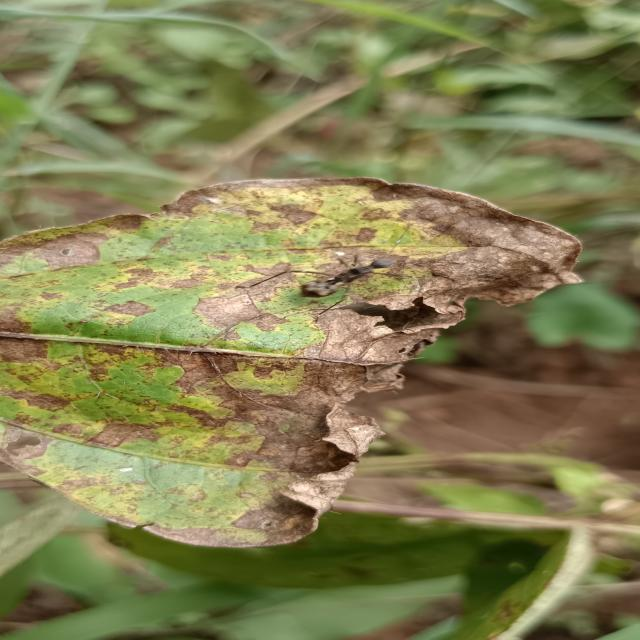Black gram_leaf spot: (0, 168, 604, 558)
